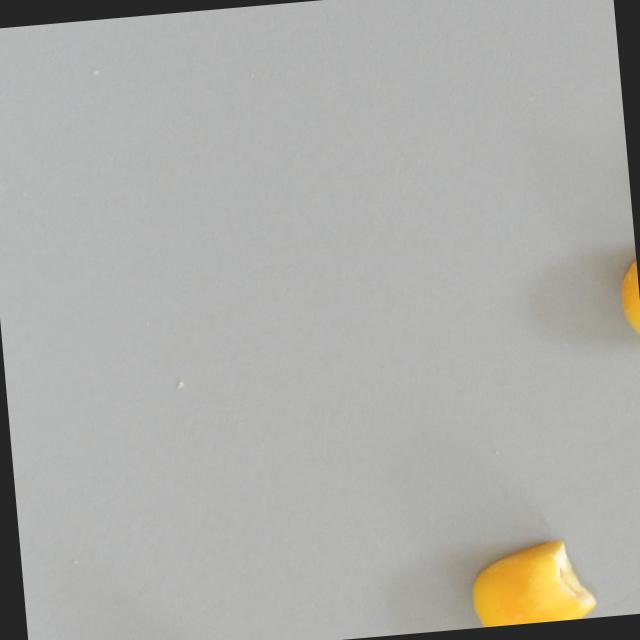no_desgerminado: (606, 239, 640, 361)
pelicula: (462, 534, 598, 628)
